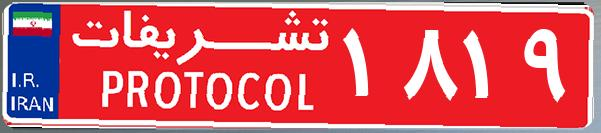1: (340, 20, 400, 115), (460, 20, 520, 115)
8: (400, 20, 460, 115)
9: (520, 20, 580, 115)
تشریفات: (60, 8, 340, 125)
